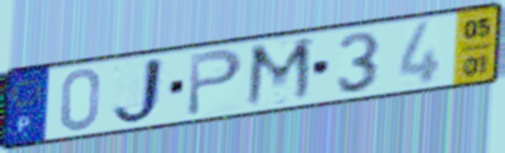0: (57, 66, 103, 134)
3: (334, 29, 384, 95)
4: (396, 18, 447, 88)
J: (108, 54, 167, 128)
M: (242, 34, 316, 111)
P: (184, 45, 246, 119)
